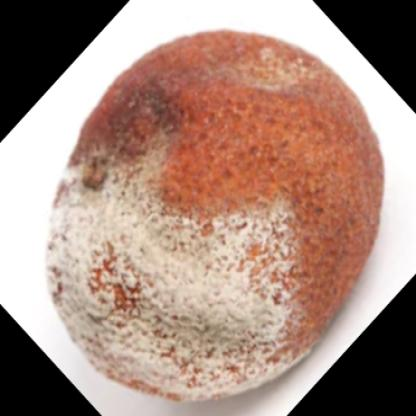rotten: (48, 32, 385, 404)
